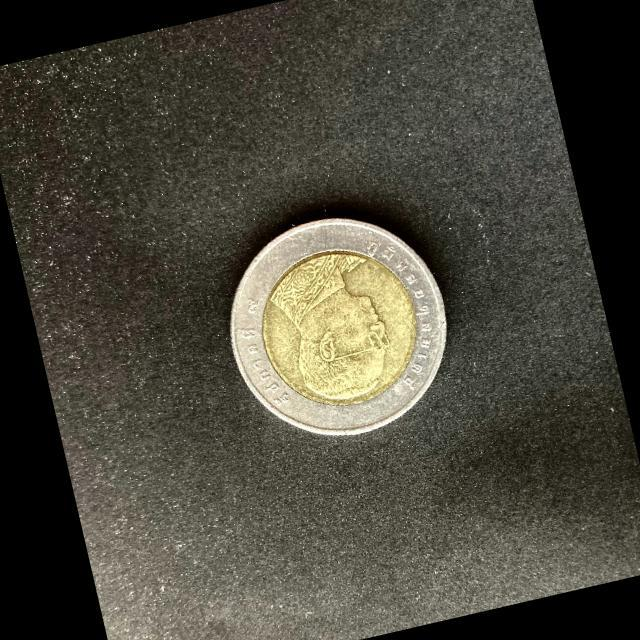10 Bath: (227, 216, 451, 439)
